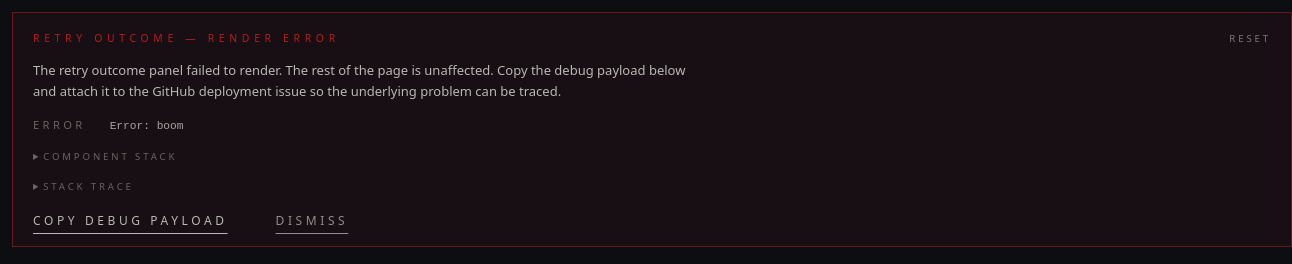
Test case: RetryOutcomeErrorBoundary › resets state and invokes onReset when the reset button is clicked
Click the button "Dismiss" at (312, 221), box [276, 212, 348, 230]
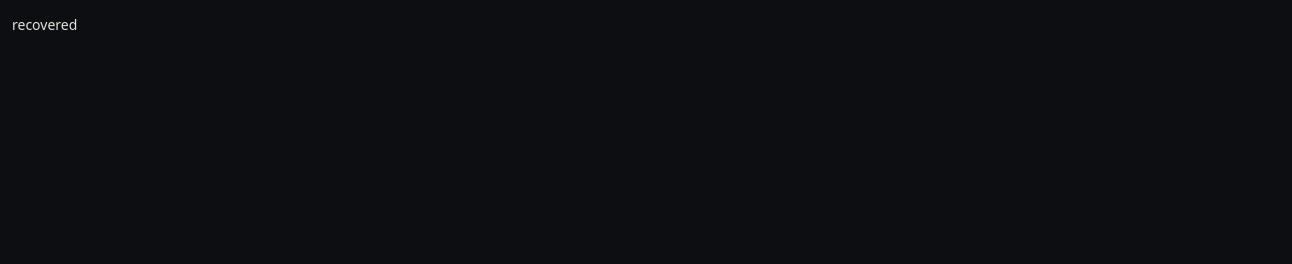
Result: the message is gone
Result: the text "recovered" is shown at [12, 15, 77, 34]
